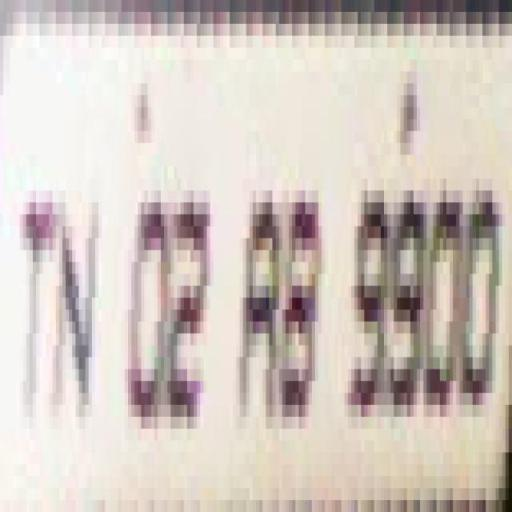number plate: (26, 36, 512, 500)
